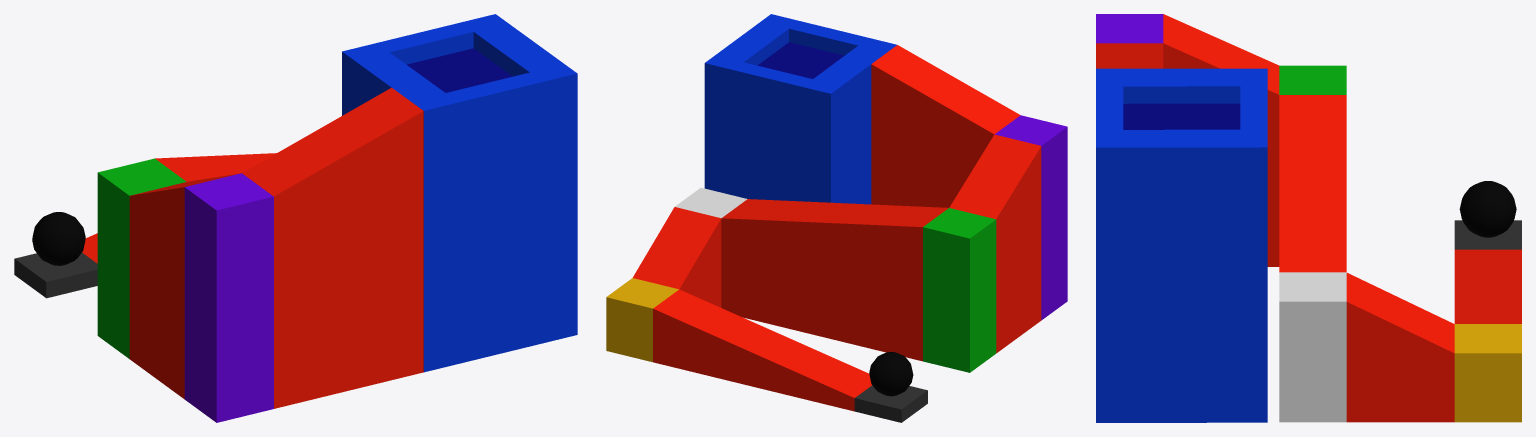
Rendered from asset.gltf.
The picture shows the model from 3 angles, left to right: view 1: azimuth 30°, elevation 25°; view 2: azimuth 150°, elevation 25°; view 3: azimuth 270°, elevation 25°; orthographic projection. The views are drawn at different scales.
Visible parts, largest first — view 1: Object_13, Object_8, Object_9, Object_7, Object_10, Object_14, Object_3, Object_1, Object_6; view 2: Object_6, Object_13, Object_8, Object_4, Object_10, Object_7, Object_9, Object_5, Object_11, Object_3, Object_14, Object_1 (+1 smaller); view 3: Object_13, Object_5, Object_6, Object_12, Object_11, Object_7, Object_4, Object_14, Object_1, Object_10, Object_9, Object_8 (+1 smaller).
Part boxes in pixels (left/top/right/bottom): Object_13: left=342, top=14, right=577, bottom=372; Object_8: left=242, top=87, right=423, bottom=408; Object_9: left=184, top=173, right=273, bottom=422; Object_7: left=129, top=173, right=240, bottom=399; Object_10: left=97, top=158, right=186, bottom=358; Object_14: left=407, top=48, right=512, bottom=92; Object_3: left=14, top=252, right=97, bottom=298; Object_1: left=32, top=212, right=85, bottom=265; Object_6: left=155, top=153, right=276, bottom=181; Object_6: left=721, top=199, right=948, bottom=361; Object_13: left=704, top=14, right=896, bottom=204; Object_8: left=871, top=45, right=1020, bottom=207; Object_4: left=653, top=289, right=871, bottom=411; Object_10: left=923, top=208, right=996, bottom=372; Object_7: left=949, top=134, right=1041, bottom=353; Object_9: left=995, top=115, right=1067, bottom=320; Object_5: left=632, top=207, right=721, bottom=307; Object_11: left=606, top=278, right=678, bottom=362; Object_3: left=854, top=385, right=927, bottom=422; Object_14: left=758, top=42, right=844, bottom=78; Object_1: left=869, top=352, right=913, bottom=396; Object_13: left=1096, top=68, right=1267, bottom=422; Object_5: left=1346, top=273, right=1454, bottom=422; Object_6: left=1279, top=95, right=1346, bottom=272; Object_12: left=1279, top=272, right=1346, bottom=422; Object_11: left=1454, top=324, right=1521, bottom=422; Object_7: left=1163, top=14, right=1279, bottom=266; Object_4: left=1454, top=249, right=1521, bottom=323; Object_14: left=1123, top=103, right=1240, bottom=129; Object_1: left=1459, top=181, right=1516, bottom=237; Object_10: left=1279, top=65, right=1346, bottom=94; Object_9: left=1096, top=14, right=1163, bottom=43; Object_8: left=1096, top=43, right=1163, bottom=68.
Size of the model in its own units: 0.4396 by 0.3044 by 0.4266.
